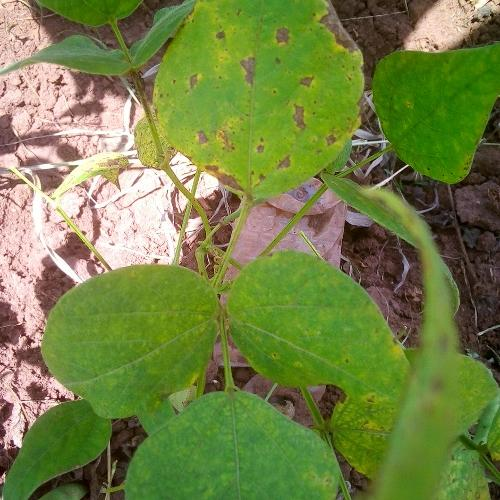hawar: (210, 13, 334, 86), (172, 102, 256, 193), (273, 90, 342, 148)
